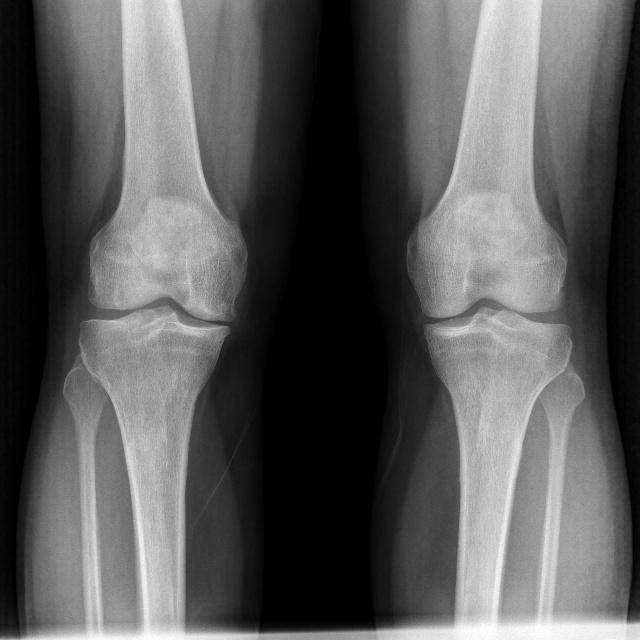Knee: (75, 238, 249, 376), (400, 244, 574, 366)
